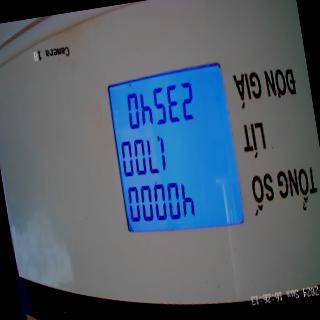screen: (102, 62, 250, 248)
